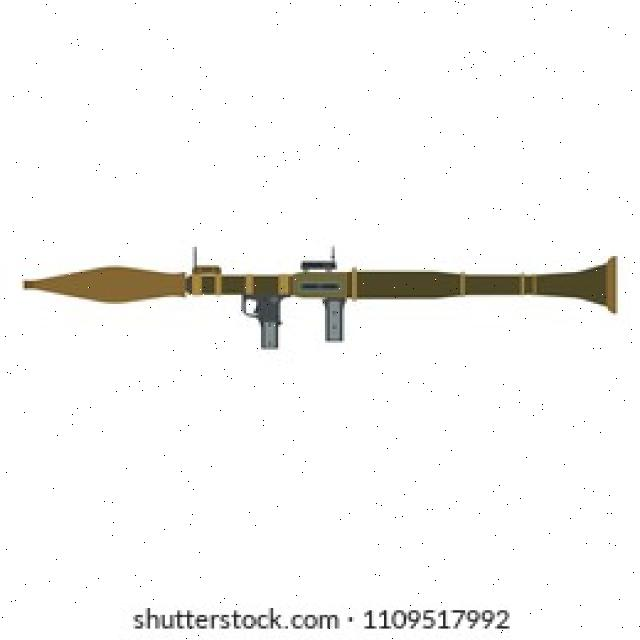bazooka: (17, 248, 631, 355)
